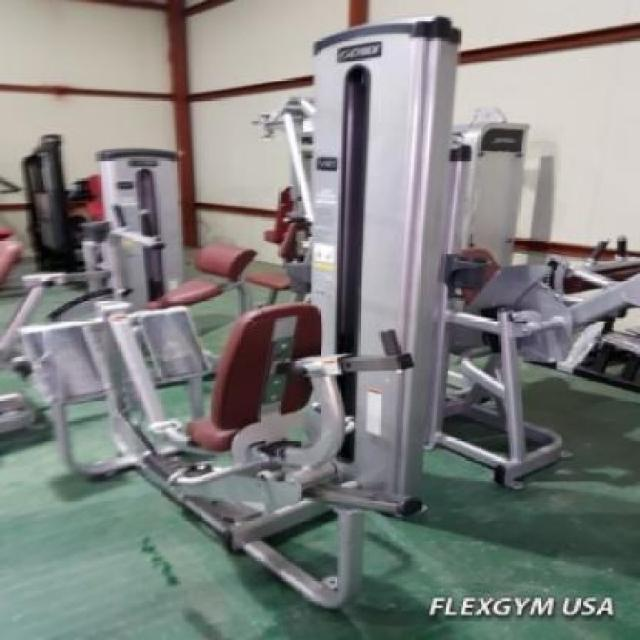leg press: (24, 5, 502, 612)
